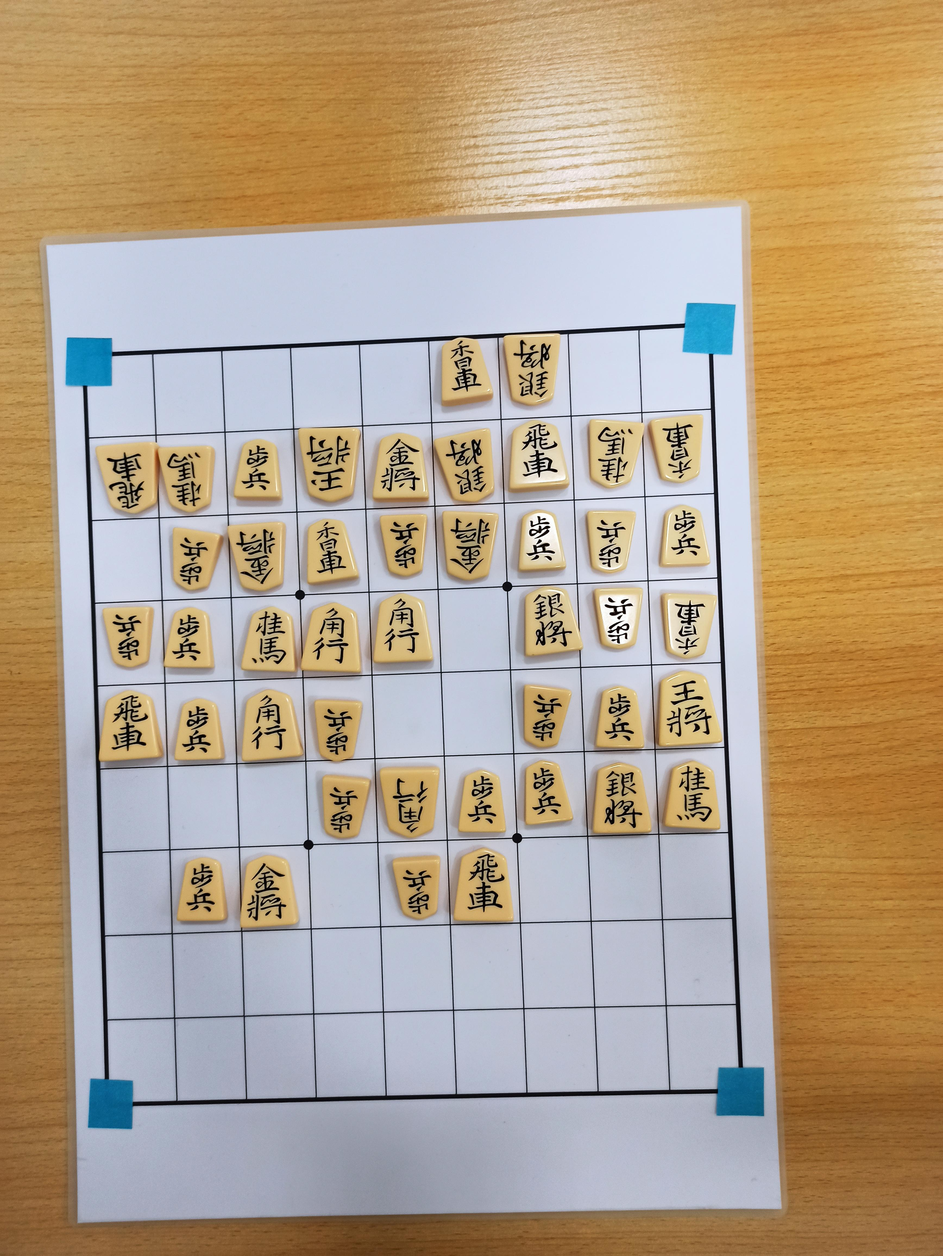board: (86, 323, 741, 1106)
